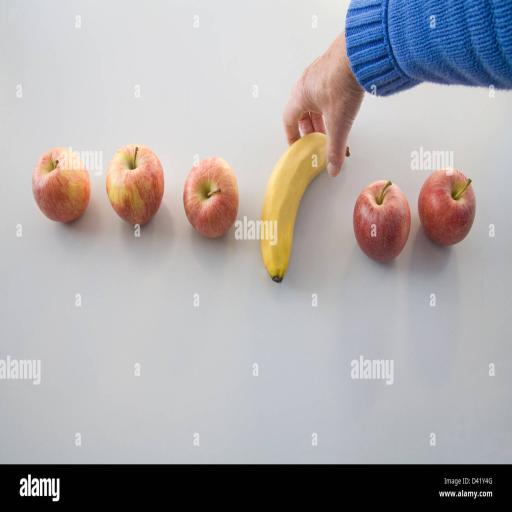apple: (106, 145, 164, 225), (353, 181, 410, 261), (184, 157, 238, 238), (418, 169, 475, 245), (32, 148, 90, 222)
banana: (260, 133, 326, 282)
